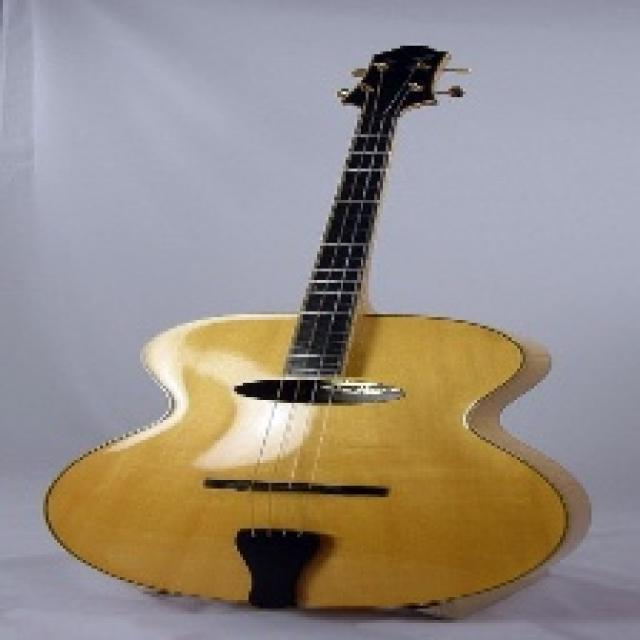acousticguitar: (45, 46, 588, 614)
